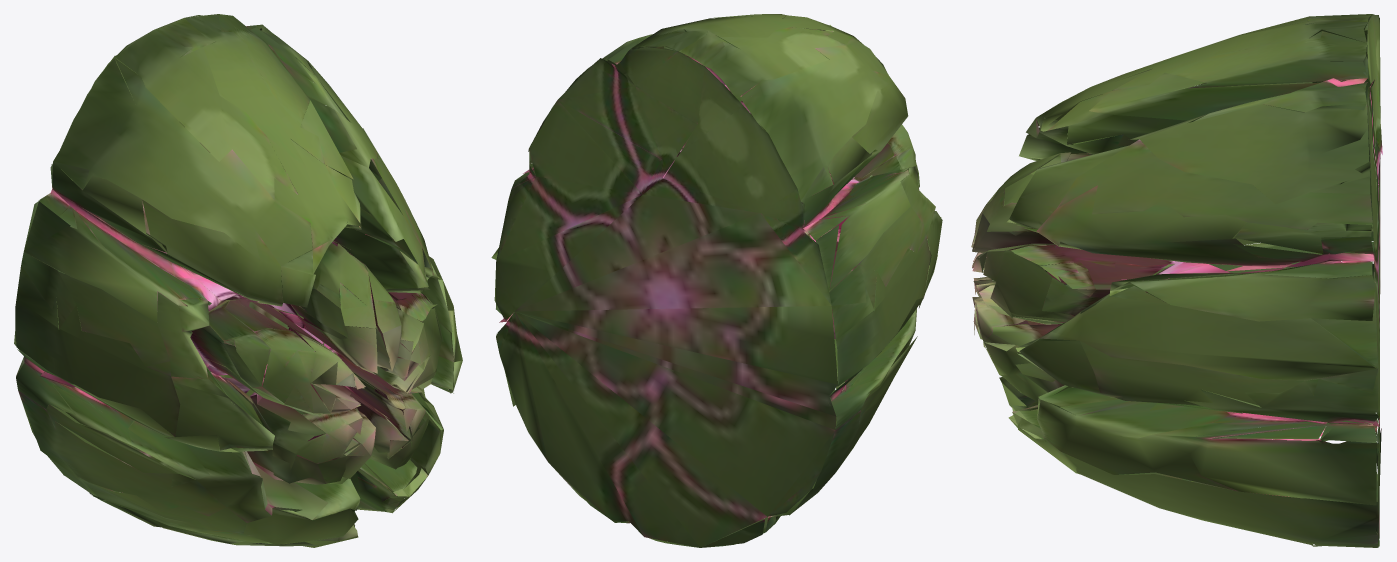
File: bloom.glb
The picture shows the model from 3 angles, left to right: view 1: azimuth 30°, elevation 25°; view 2: azimuth 150°, elevation 25°; view 3: azimuth 270°, elevation 25°; orthographic projection. The views are drawn at different scales.
Parts seen in each view (by area): view 1: Cap, Cup; view 2: Cap, Cup; view 3: Cap, Cup.
Part boxes in pixels (x1,y1,x2,y2): Cap: (16, 14, 456, 408); Cup: (14, 230, 462, 547); Cap: (495, 14, 935, 339); Cup: (491, 198, 942, 547); Cap: (971, 14, 1382, 365); Cup: (972, 192, 1381, 547).
Bounding box in the file's own units: 0.7438 × 1 × 0.7405.
Materials: 1 (1 with a texture image).
